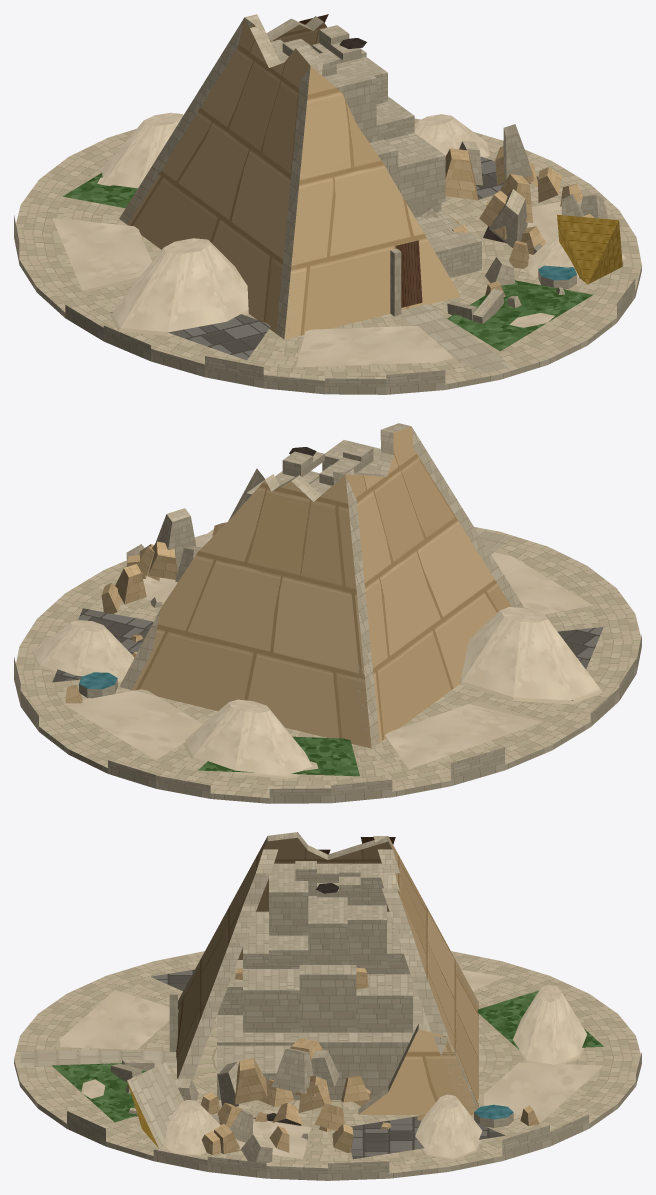
Rendered from pyramid_large_destroyed_lod0.glb.
The picture shows the model from 3 angles, top to bottom: view 1: azimuth 30°, elevation 25°; view 2: azimuth 150°, elevation 25°; view 3: azimuth 270°, elevation 25°; orthographic projection. The views are drawn at different scales.
Parts seen in each view (by area): view 1: pyramid_large_destroyed_lod0; view 2: pyramid_large_destroyed_lod0; view 3: pyramid_large_destroyed_lod0.
Part boxes in pixels (<box>): pyramid_large_destroyed_lod0: <box>14,14,641,394</box>; pyramid_large_destroyed_lod0: <box>14,423,641,803</box>; pyramid_large_destroyed_lod0: <box>14,832,641,1180</box>.
Size of the model in its own units: 1.68 by 0.7193 by 1.9.
Materials: 1 (1 with a texture image).
